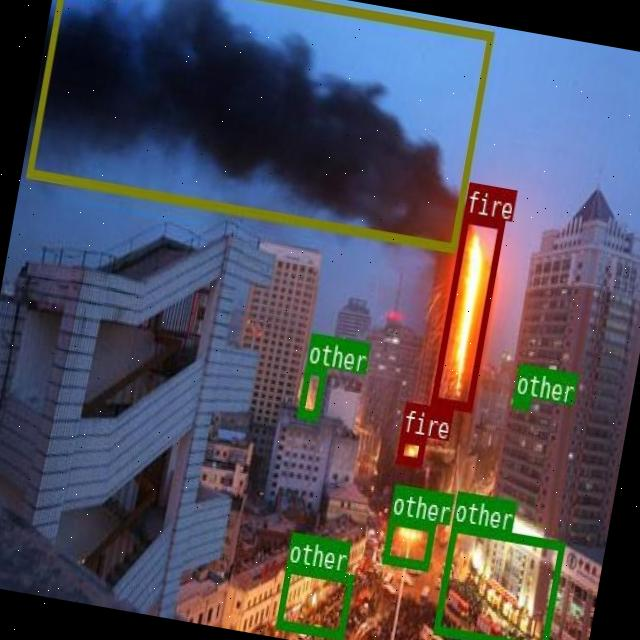fire: (429, 212, 504, 410), (395, 432, 424, 464)
smoke: (25, 0, 491, 251)
